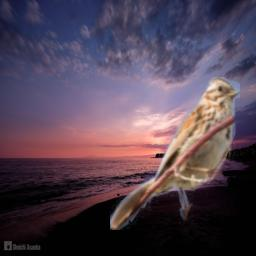Sparrow: (110, 77, 240, 230)
